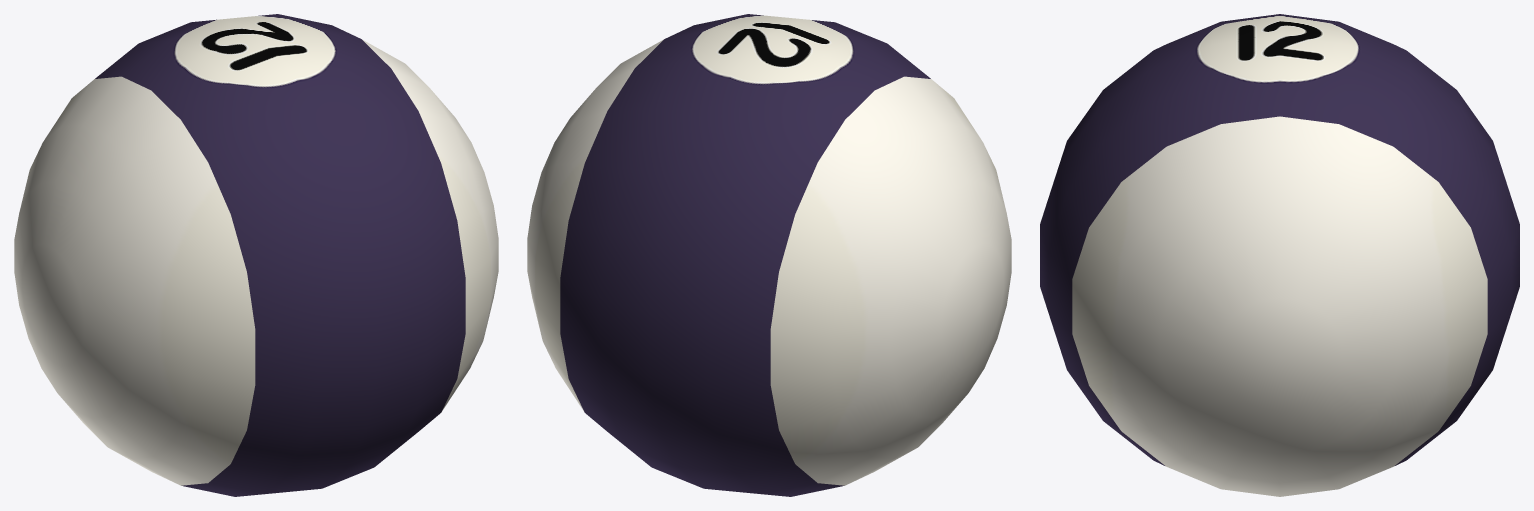
The model's file is Pool_Ball_12.fbx.
The picture shows the model from 3 angles, left to right: view 1: azimuth 30°, elevation 25°; view 2: azimuth 150°, elevation 25°; view 3: azimuth 270°, elevation 25°; orthographic projection.
Parts seen in each view (by area): view 1: Pool_Ball_12; view 2: Pool_Ball_12; view 3: Pool_Ball_12.
Boxes of the visible parts, x1,y1,x2,y2 form: Pool_Ball_12: (14,14,498,496); Pool_Ball_12: (527,14,1011,496); Pool_Ball_12: (1040,14,1519,496).
Size of the model in its own units: 0.051 by 0.051 by 0.0505.
